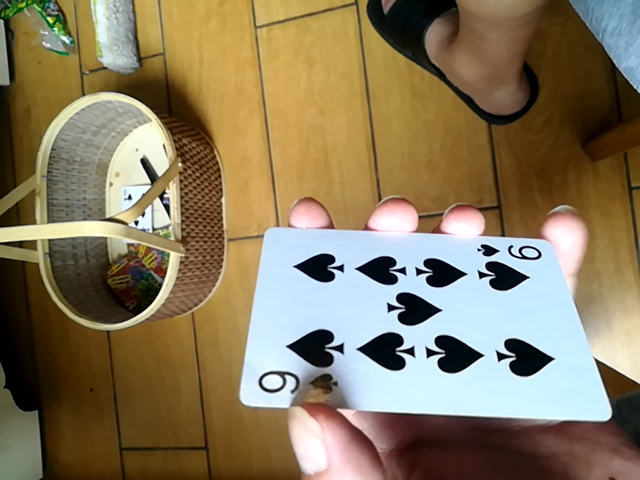ht 9: (237, 224, 603, 419)
